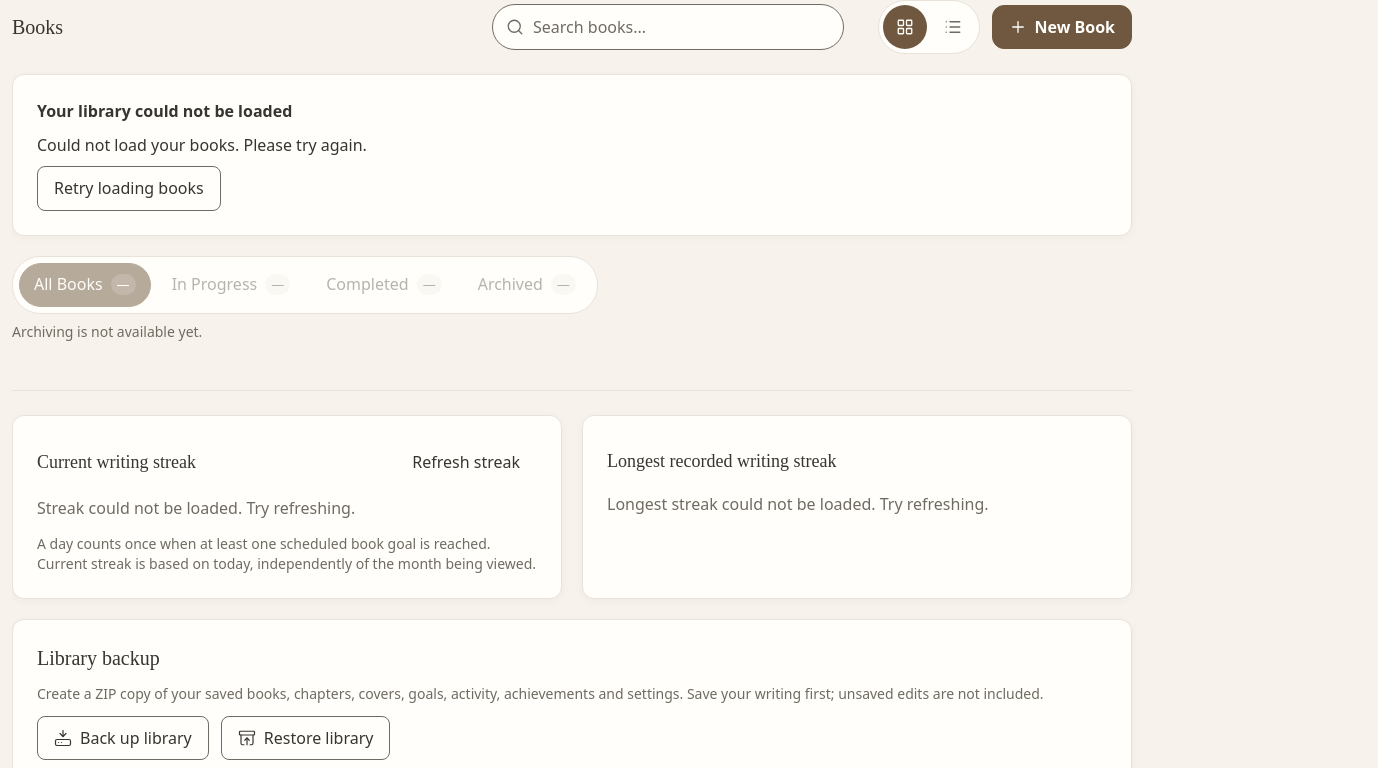
Test: failed loading shows retry and does not claim an empty library
Expected: the message shows "Could not load", [37,134,367,156]
Expected: the button with aria-label "All Books ? (count unavailable)" is disabled, [19,263,151,307]
Click the button "Retry loading books" at (129, 188), box [37,166,221,211]
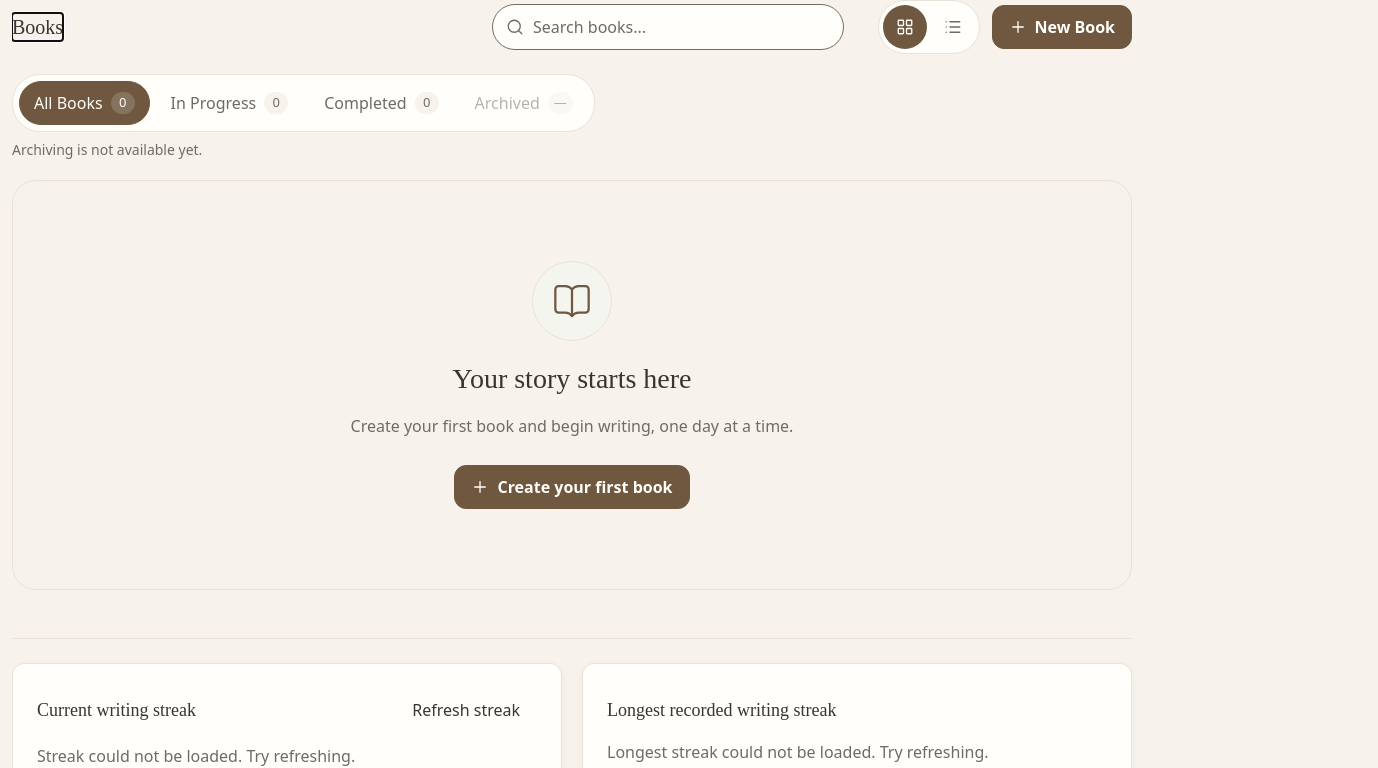
Expected: the text "Create your first book and begin writing, one day at a time." is shown, [351,413,794,441]
